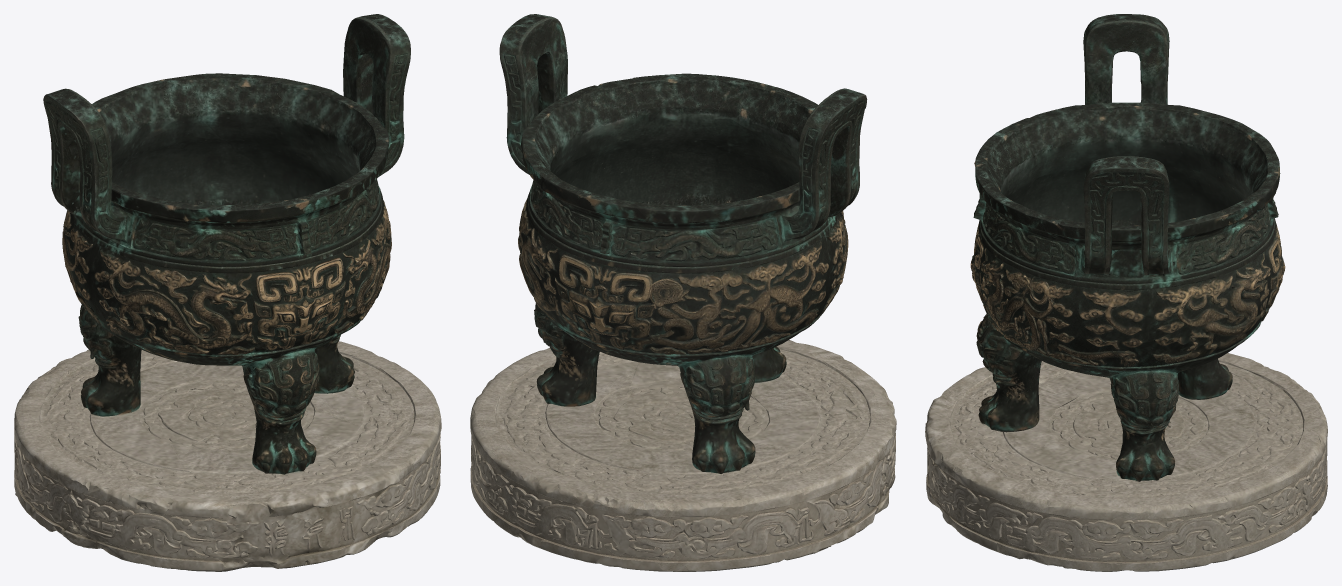
The model's file is incense_ding.glb.
The picture shows the model from 3 angles, left to right: view 1: azimuth 30°, elevation 25°; view 2: azimuth 150°, elevation 25°; view 3: azimuth 270°, elevation 25°; orthographic projection. The views are drawn at different scales.
Parts seen in each view (by area): view 1: Mesh_0; view 2: Mesh_0; view 3: Mesh_0.
Boxes of the visible parts, box(x1,y1,x2,y2) form: Mesh_0: box(14, 14, 441, 571); Mesh_0: box(470, 14, 896, 571); Mesh_0: box(925, 14, 1327, 571).
Bounding box in the file's own units: 2.37 × 2.6 × 2.37.
1 material, 1 textured.
